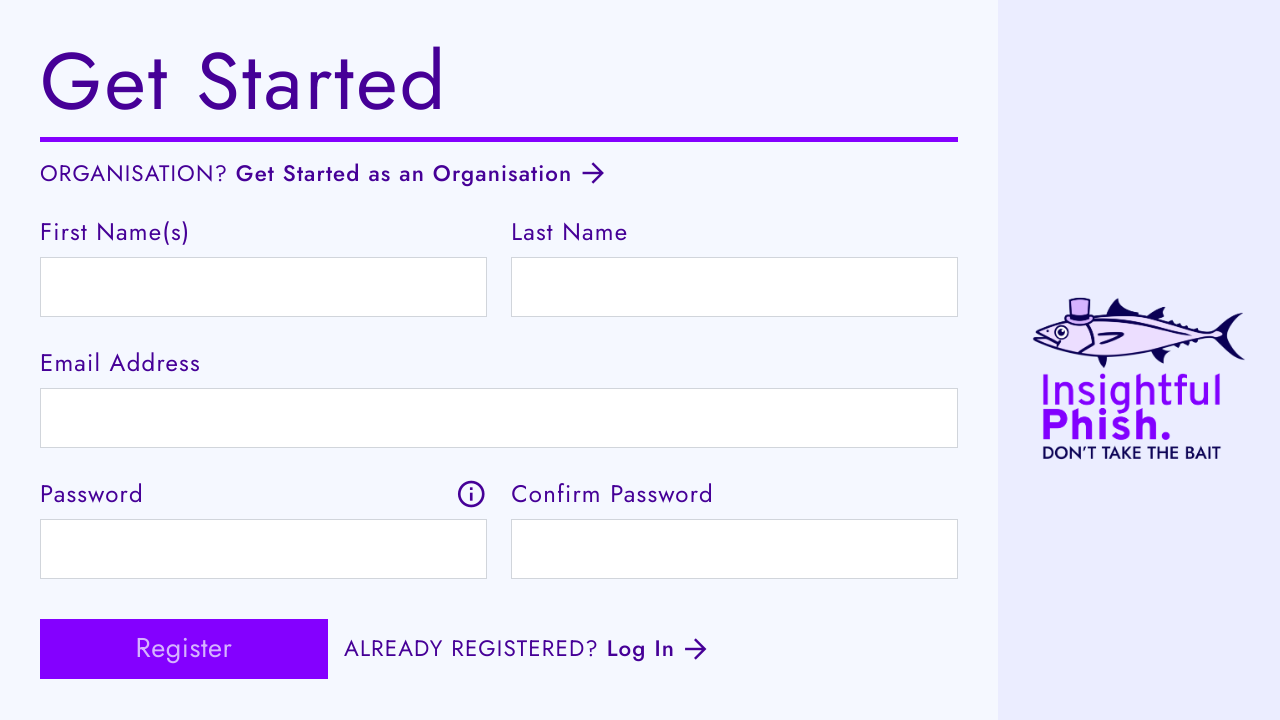
Test: RegisterPage › shows schema validation errors before submitting invalid input
In the field labelled "First Name(s)": (264, 286) [40, 256, 487, 316], type "Jane"
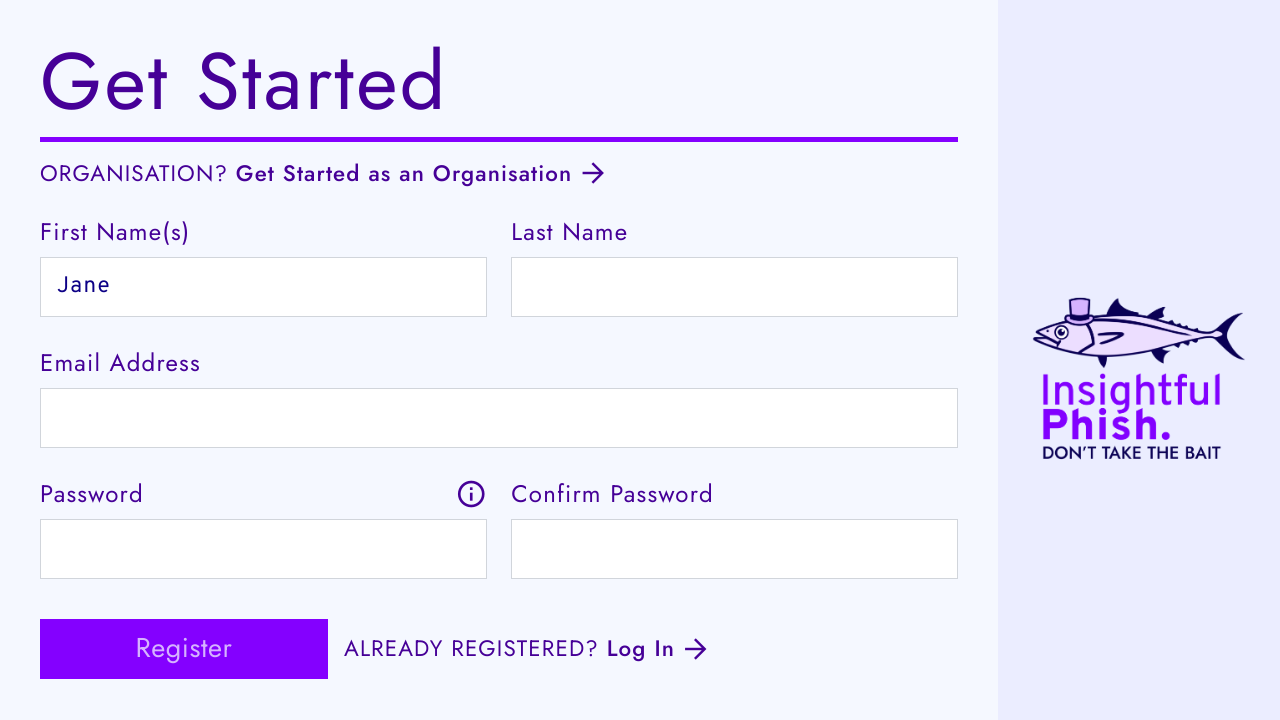
In the field labelled "Last Name": (735, 286) [511, 256, 958, 316], type "Doe"
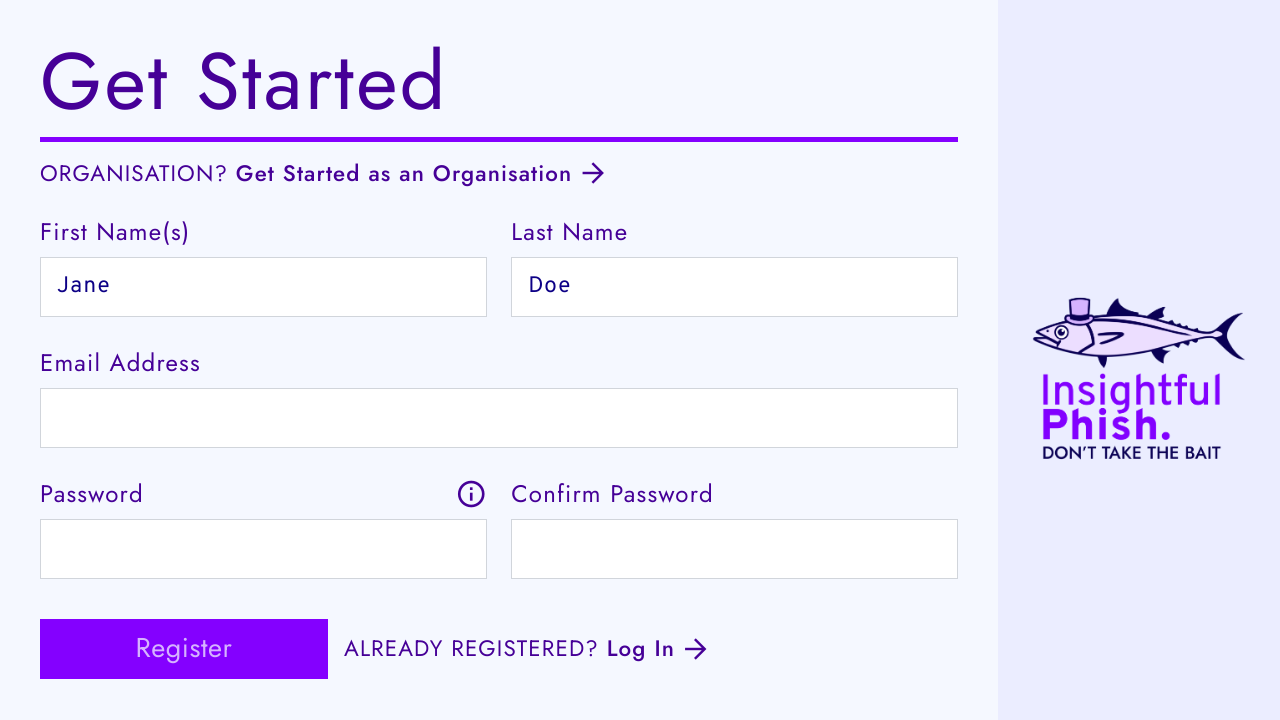
In the field labelled "Email Address": (499, 418) [40, 388, 958, 448], type "not-an-email"
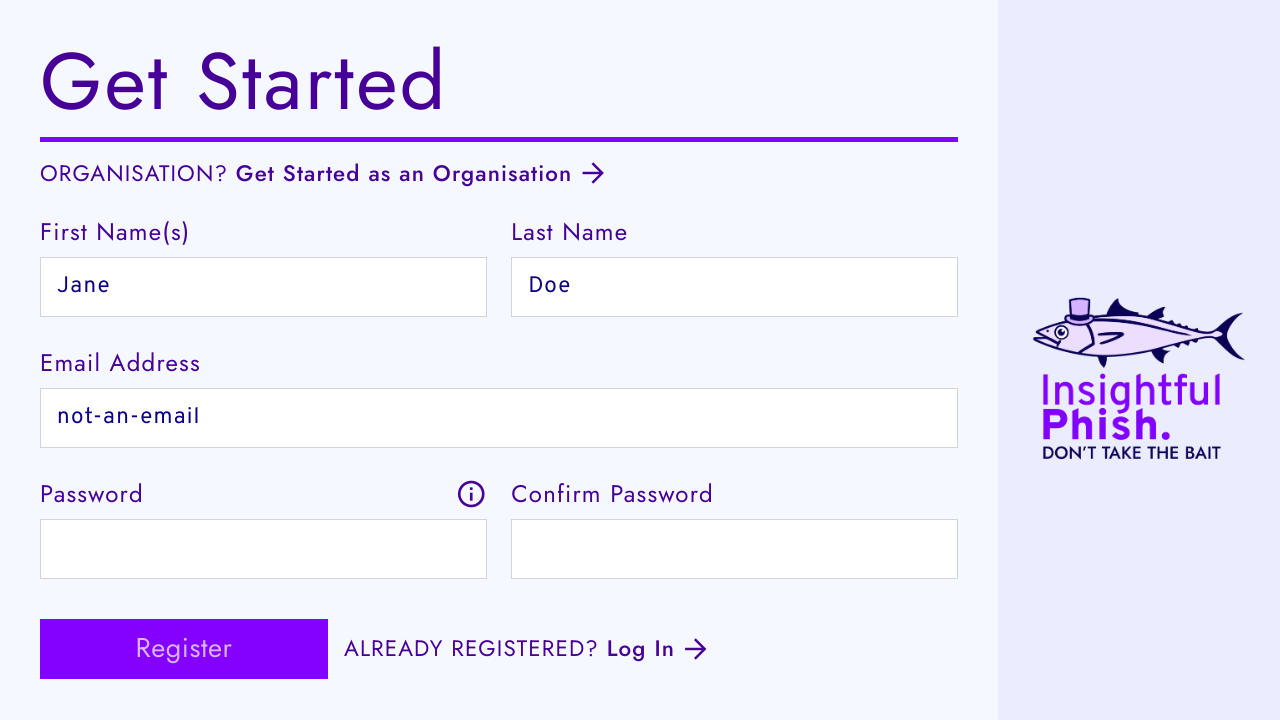
In the password field labelled "Password": (264, 549) [40, 519, 487, 579], type "StrongPass123!"
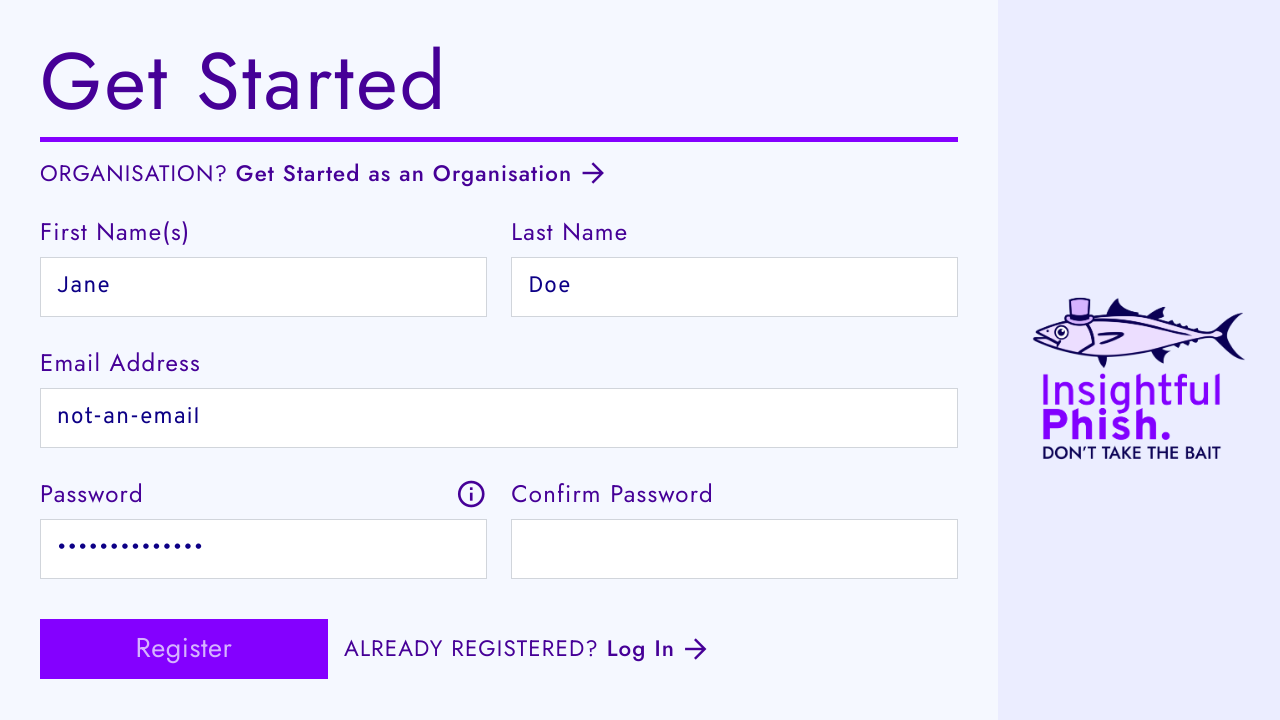
In the password field labelled "Confirm Password": (735, 549) [511, 519, 958, 579], type "StrongPass123!"
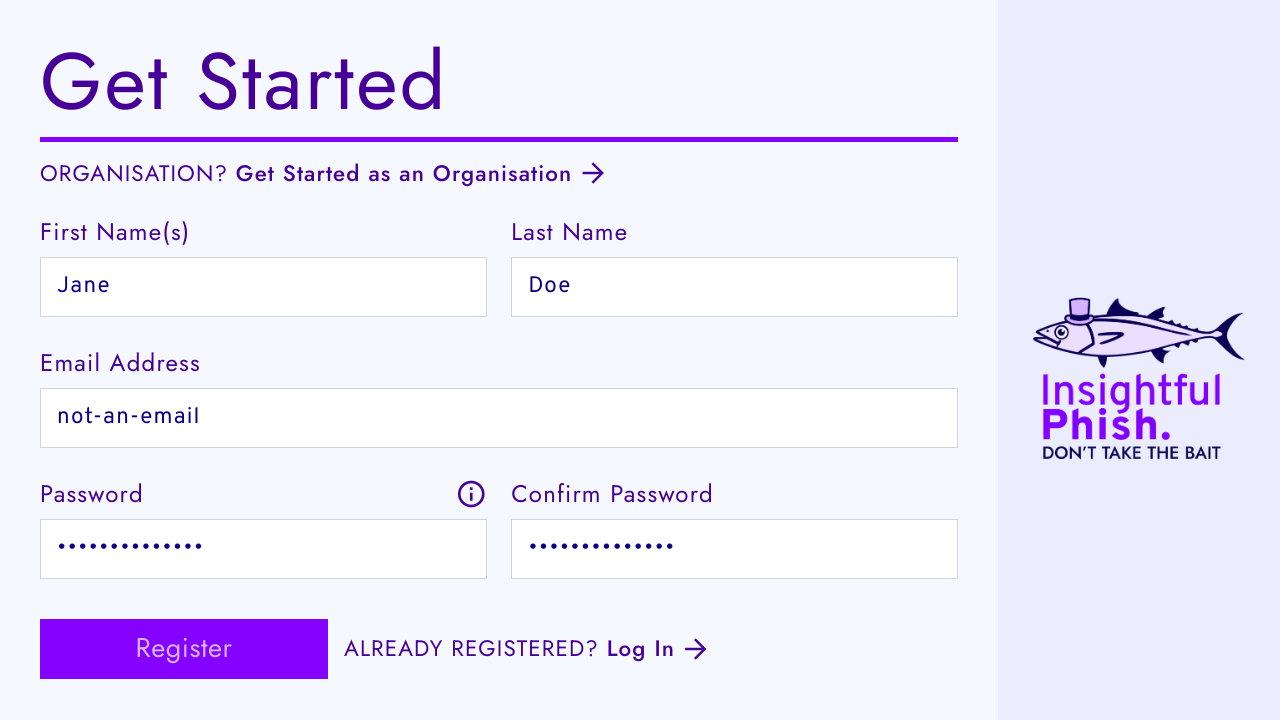
Click the button "Register": click(184, 649) [40, 619, 328, 679]
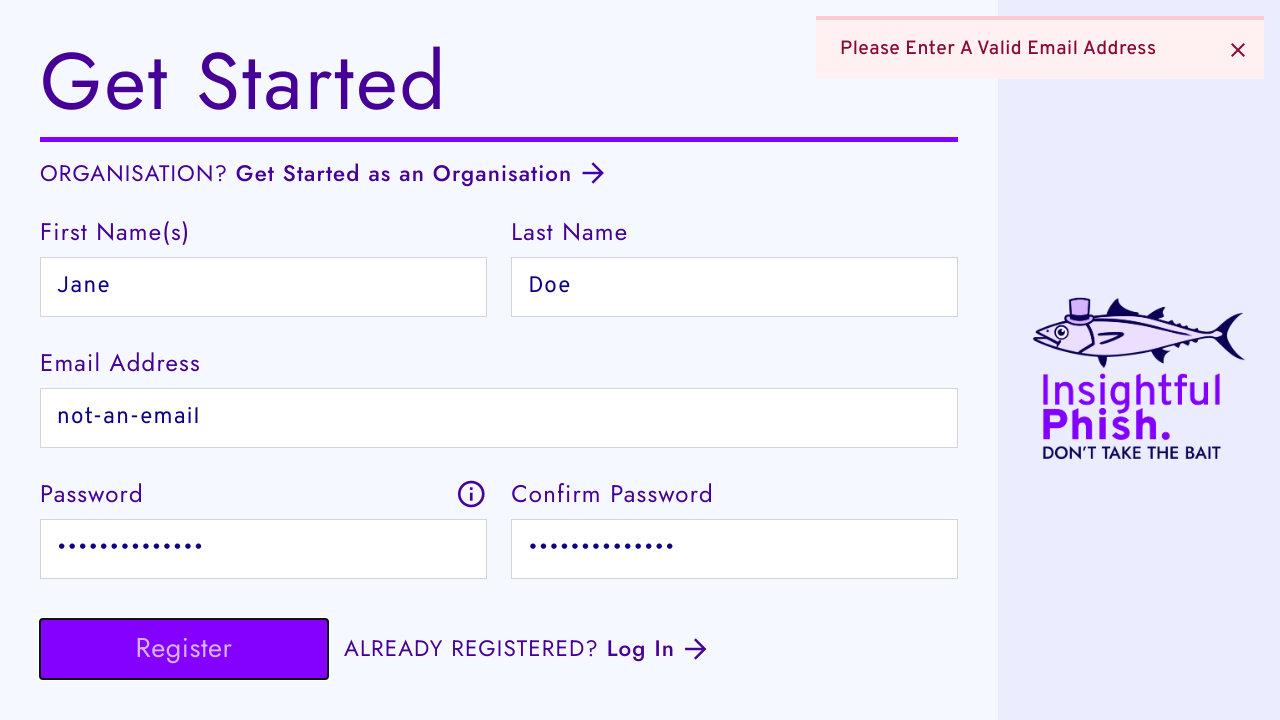
Check: the text "Please Enter A Valid Email Address" is shown, box [840, 36, 1157, 63]
